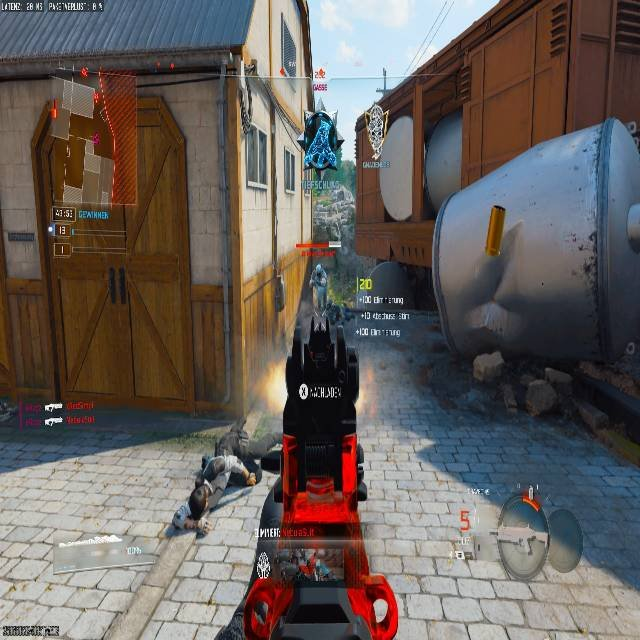player: (302, 104, 341, 176)
